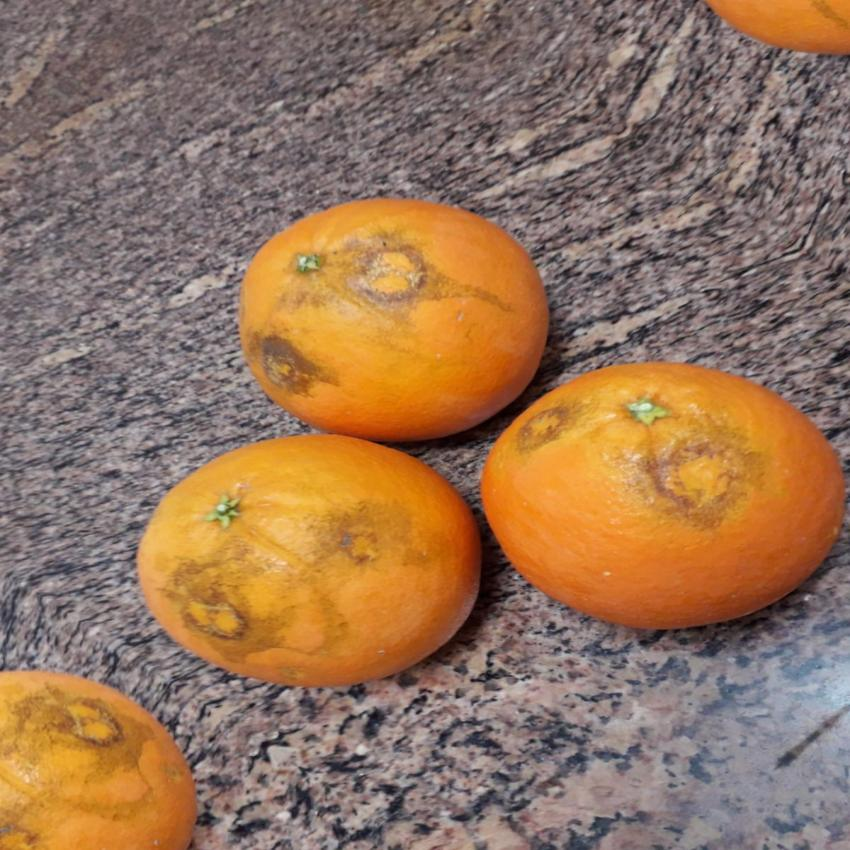Mal estado: (483, 359, 849, 650), (192, 182, 569, 454), (134, 439, 487, 696), (0, 660, 212, 849)
